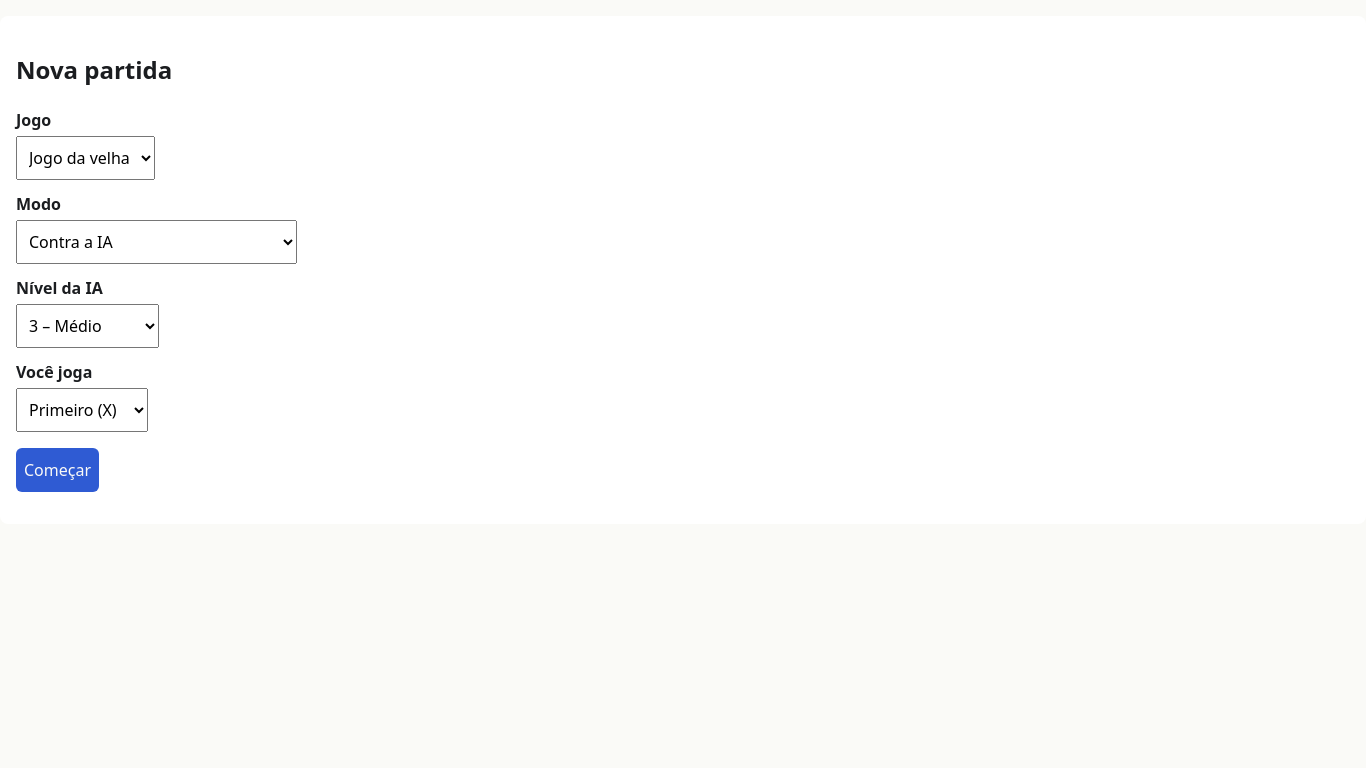
Scenario: partida contra a IA ou local: o botão usa o REST e mostra o empate
This screenshot has width=1366, height=768.
Click the button "Começar" at (58, 470), box [16,448,99,492]
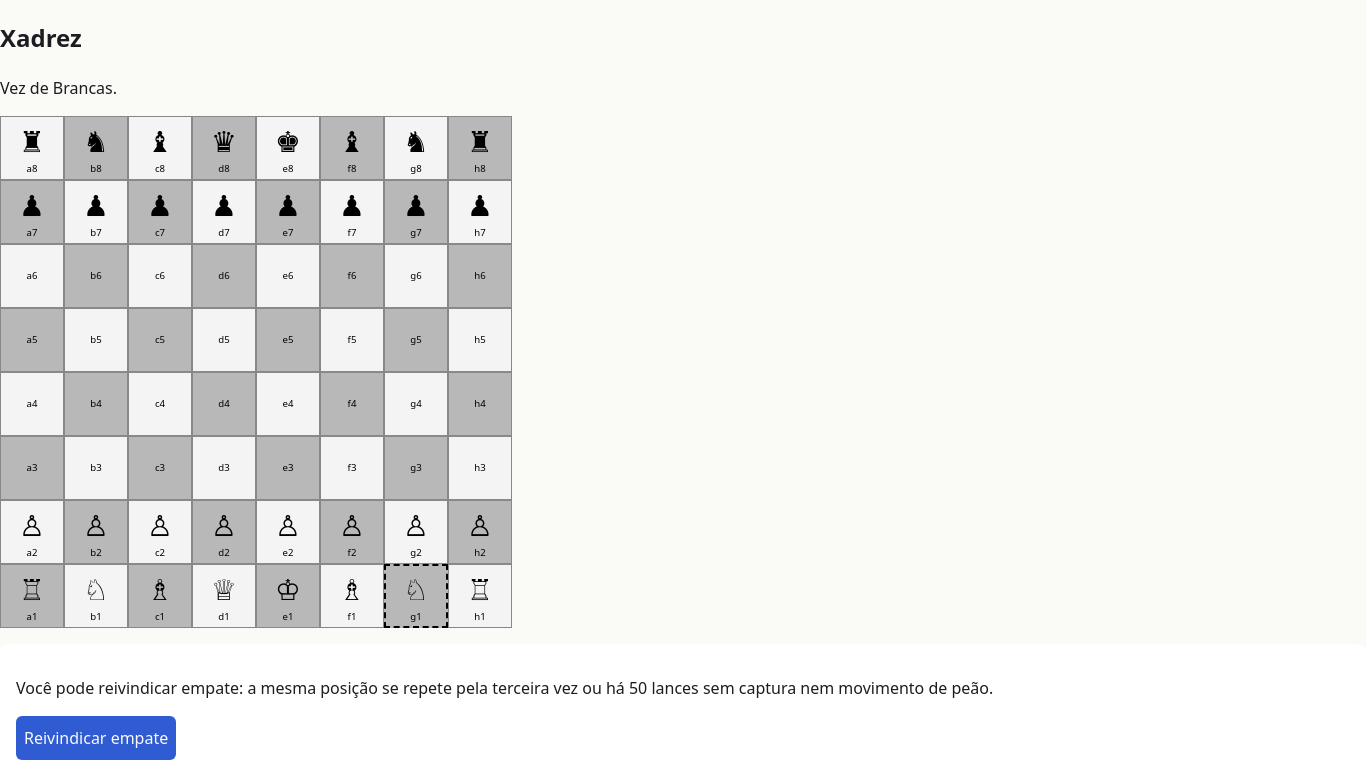
Click the button "Reivindicar empate" at (96, 738), box [16,716,176,760]
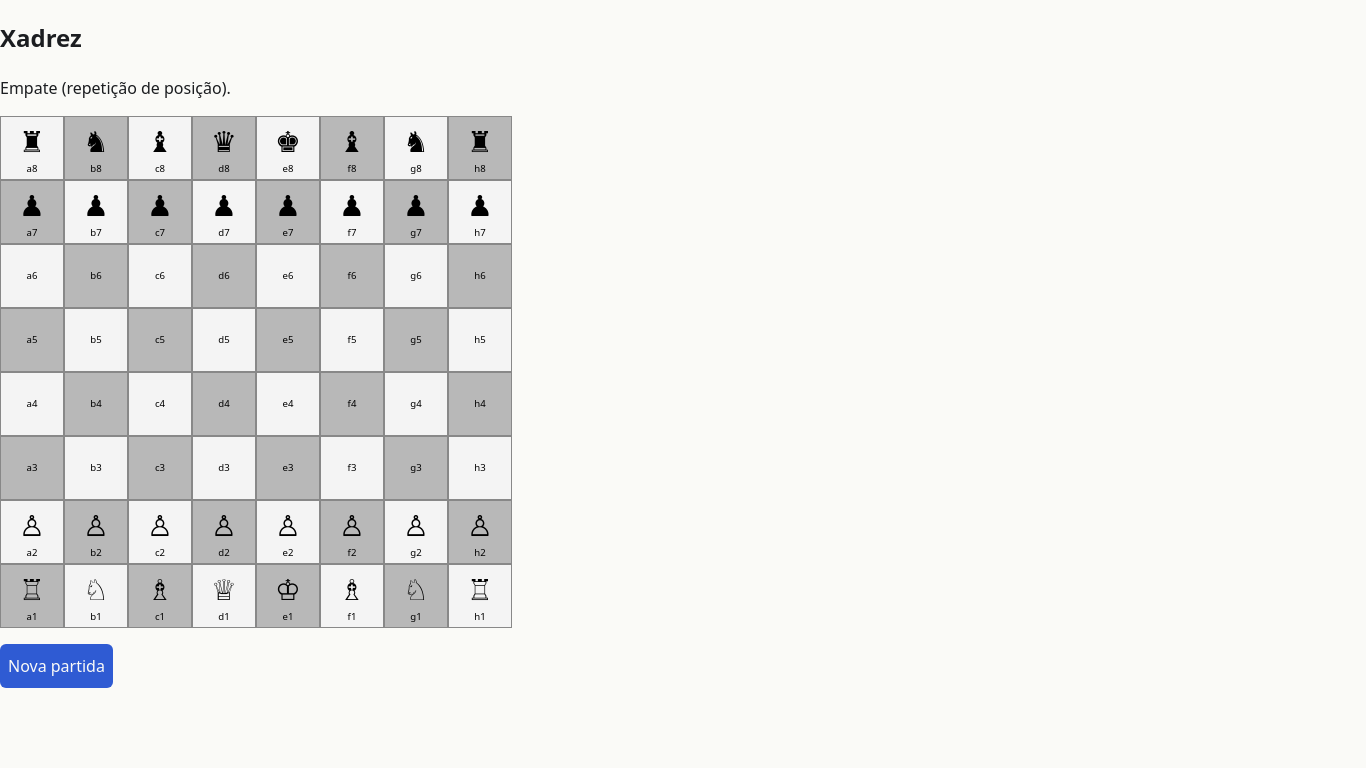
expect the text "Empate (repetição de posição)." is shown: met, box [0,77,231,99]
expect the message "reivindicar empate" is gone: met
